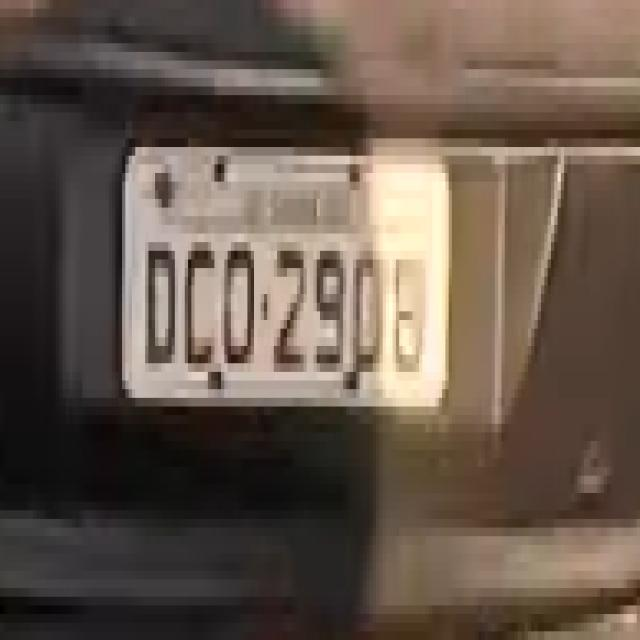Placa_mercosul_carro: (118, 141, 453, 410)
